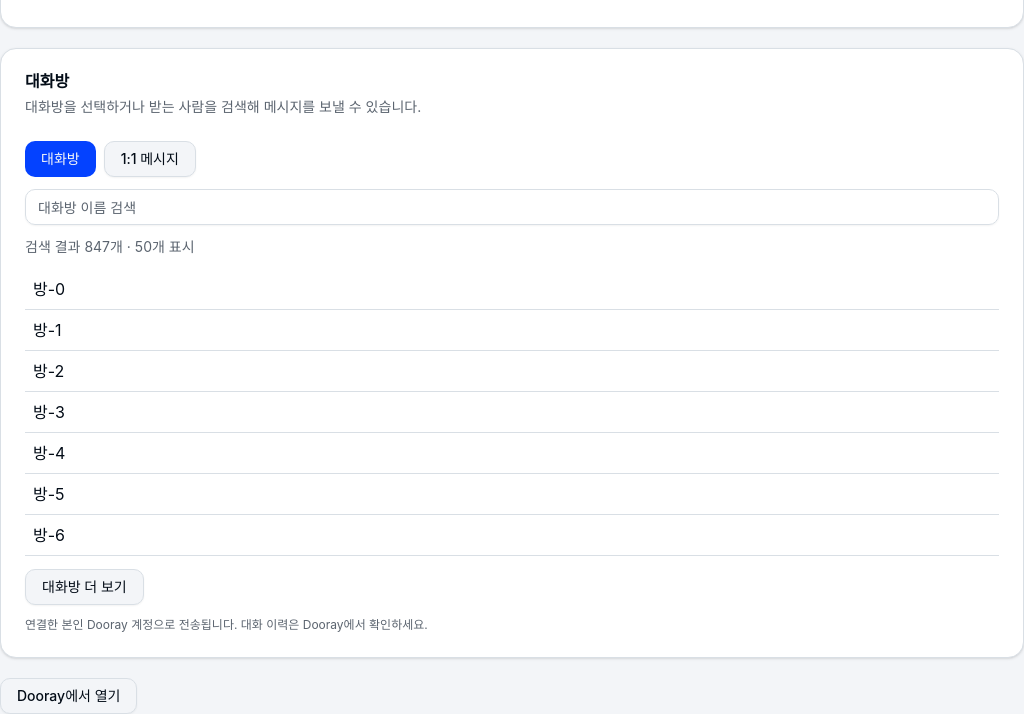
Test: Dooray settings and overview › renders large channel lists in batches while searching all channels
The image size is (1024, 714).
(page scrolled)
Step 1. Click the button "대화방 더 보기" → click(84, 587), box [25,569,144,605]
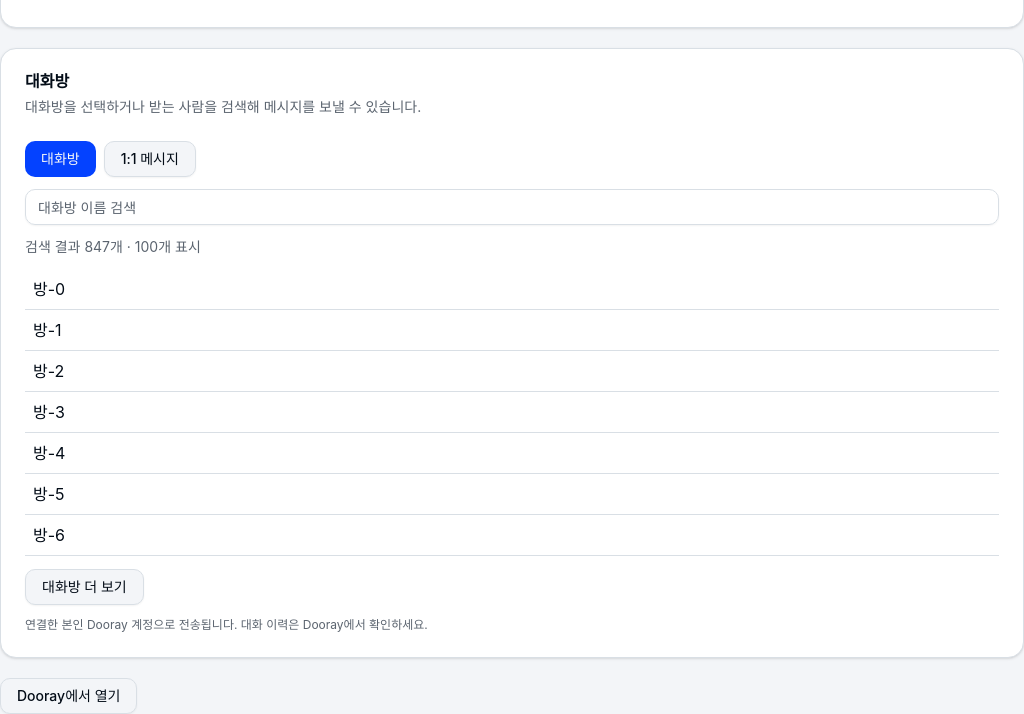
Step 2. Type "방-846" into the search field named "대화방 검색" → (512, 207), box [25,189,999,225]
(page scrolled)
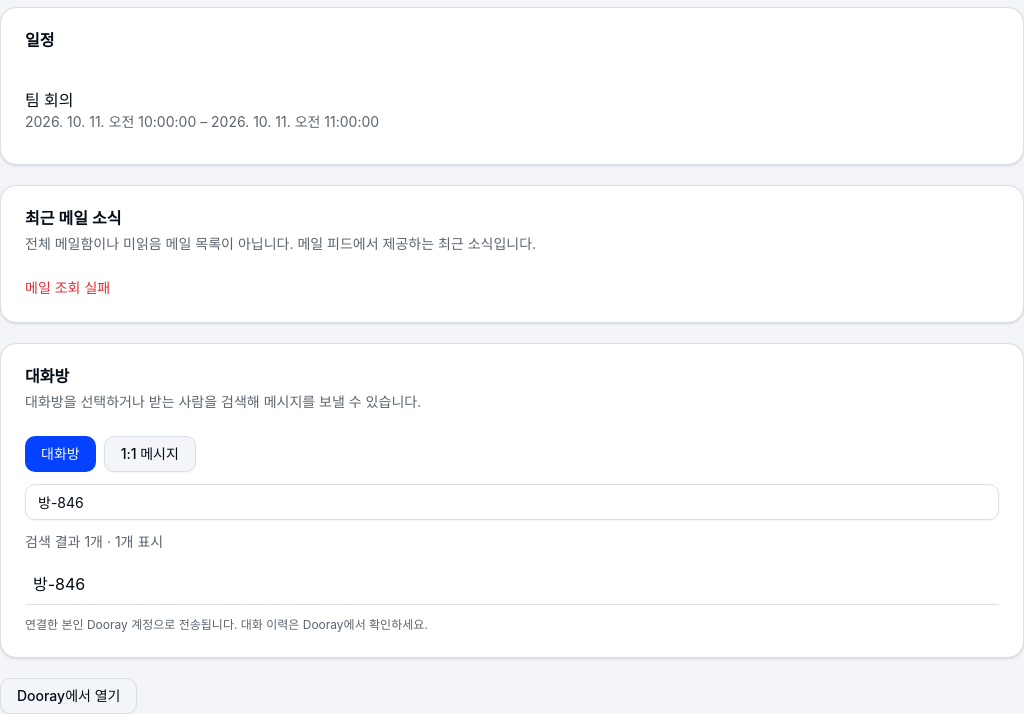
Expected: the button "방-846" is shown, [25,564,999,605]
